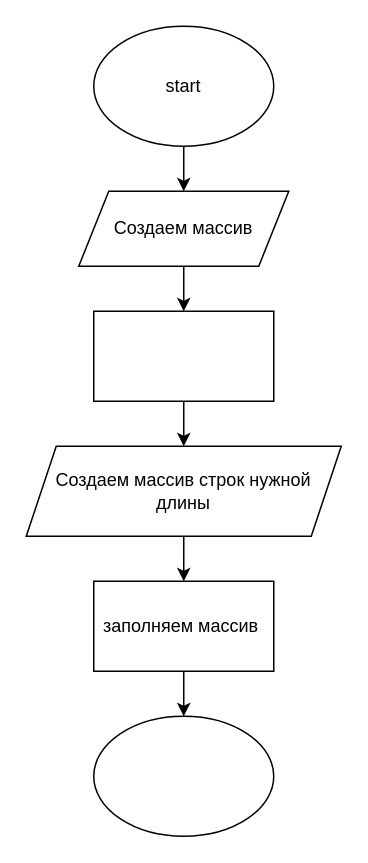
Image size: 368x863. Some labels were removed from this diagram. Here are the shapes that lost their labels. From the top down, the centre of each, then its label:
At (x=183, y=355): "Считаем кол-во строк удовлетворяющих условию".
At (x=183, y=775): "finish".
